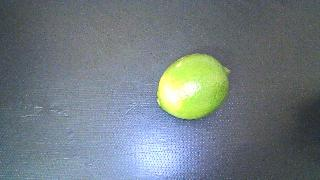EXPORTACION: (157, 53, 230, 119)
